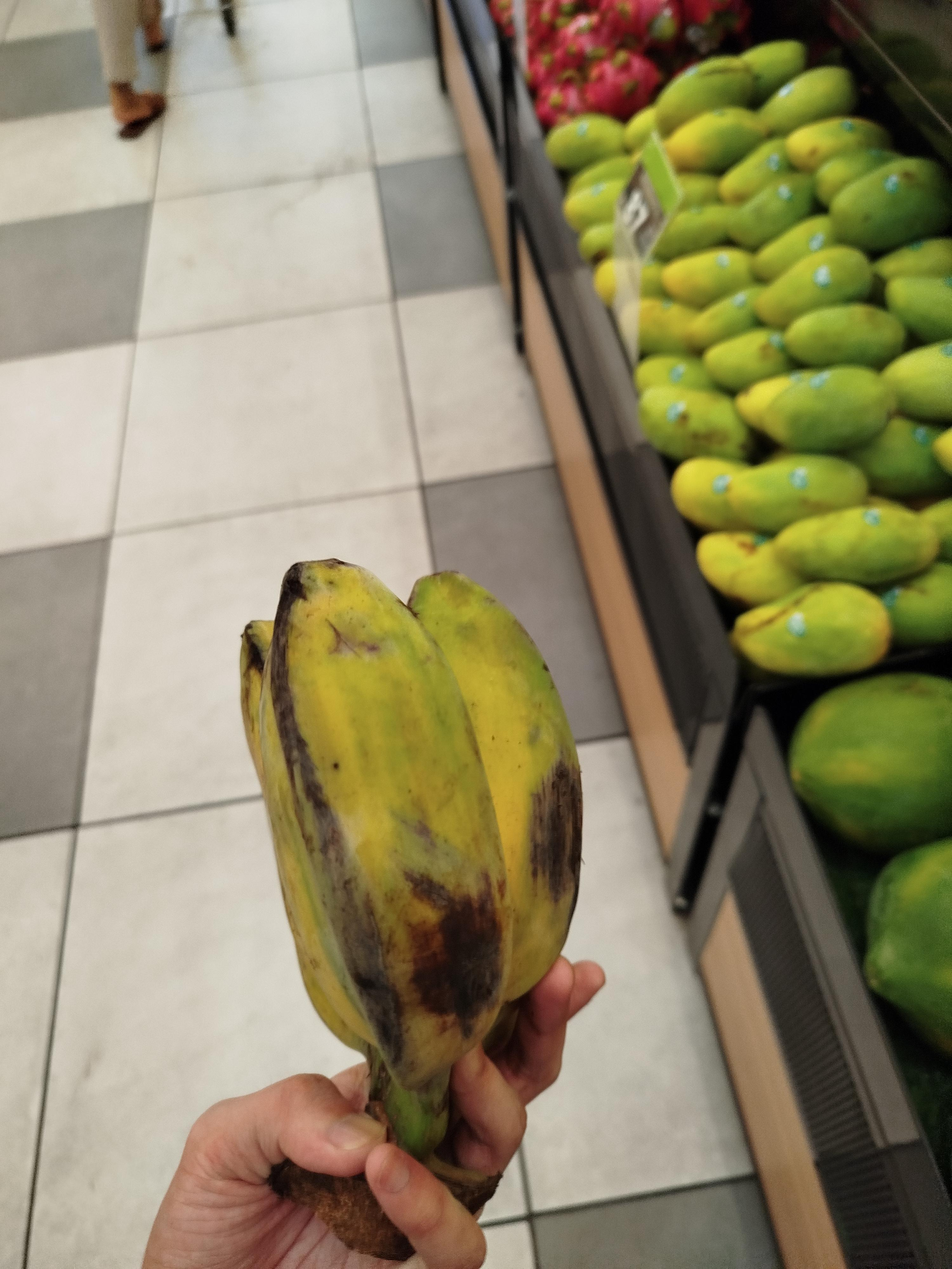underripe: (241, 560, 582, 1090)
